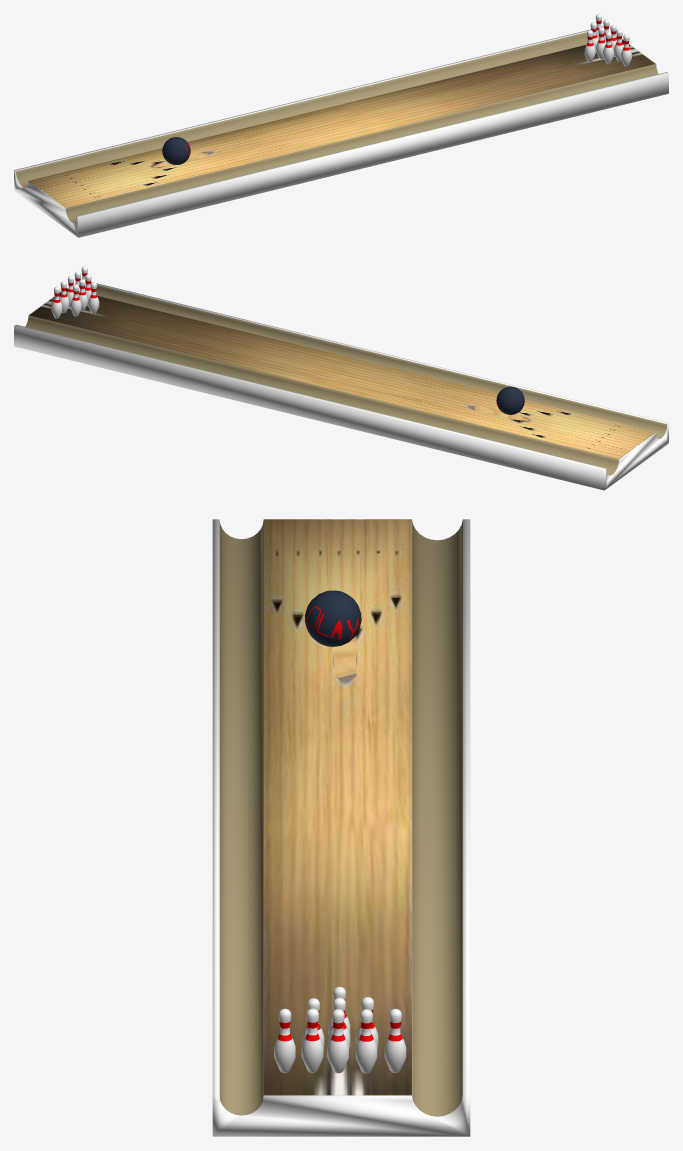
3 views of the same model, one above another, from view 1: azimuth 30°, elevation 25°; view 2: azimuth 150°, elevation 25°; view 3: azimuth 270°, elevation 25° (orthographic). The views are drawn at different scales.
Parts seen in each view (by area): view 1: Bowling_lane, Component_2; view 2: Bowling_lane, Component_2; view 3: Bowling_lane, Component_1 (×5), Component_2.
Part boxes in pixels (box(x1,y1,x2,y2)): Bowling_lane: box(14, 26, 668, 237); Component_2: box(162, 137, 190, 164); Bowling_lane: box(14, 282, 668, 490); Component_2: box(496, 386, 524, 414); Bowling_lane: box(212, 519, 470, 1136); Component_1 (×5): box(274, 1008, 406, 1073); Component_2: box(305, 590, 361, 646).
Size of the model in its own units: 107232 by 20269 by 8971.
Materials: 7 (3 with a texture image).
